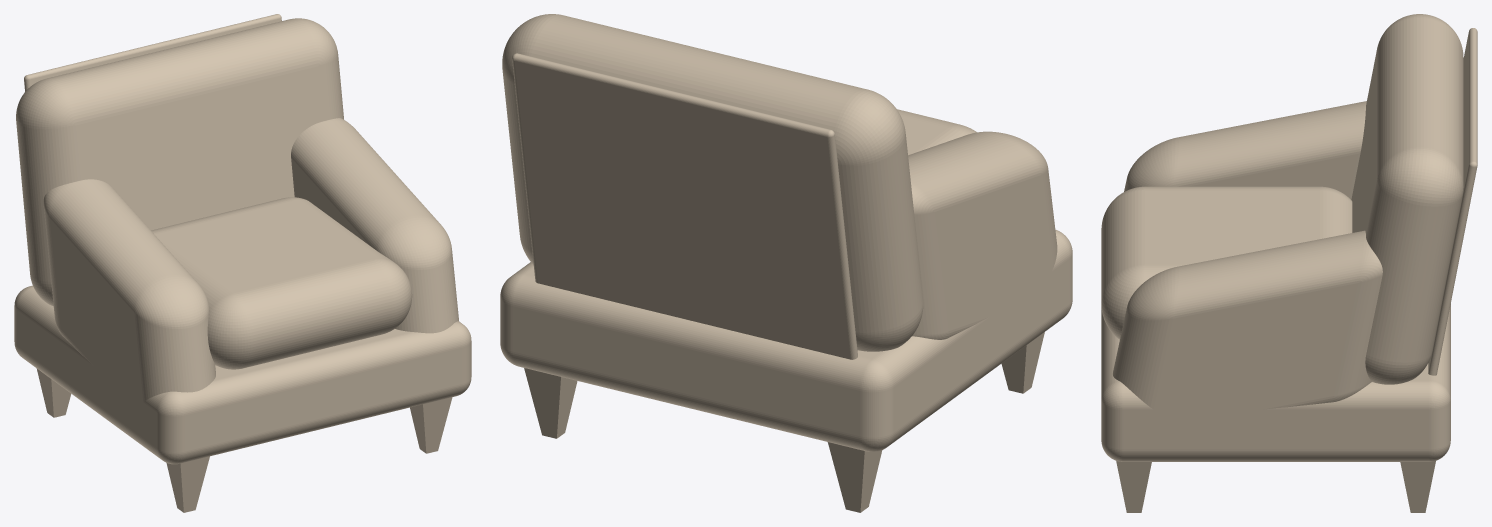
File: chair.glb
3 views of the same model, side by side, from view 1: azimuth 30°, elevation 25°; view 2: azimuth 150°, elevation 25°; view 3: azimuth 270°, elevation 25° (orthographic). The views are drawn at different scales.
Parts seen in each view (by area): view 1: Mesh_Mesh_head_geo.001_lambert2SG.001; view 2: Mesh_Mesh_head_geo.001_lambert2SG.001; view 3: Mesh_Mesh_head_geo.001_lambert2SG.001.
Boxes of the visible parts, bbox=[...] form: Mesh_Mesh_head_geo.001_lambert2SG.001: bbox=[14, 14, 471, 512]; Mesh_Mesh_head_geo.001_lambert2SG.001: bbox=[500, 14, 1072, 512]; Mesh_Mesh_head_geo.001_lambert2SG.001: bbox=[1101, 14, 1477, 512].
Size of the model in its own units: 18 by 18.33 by 17.22.
